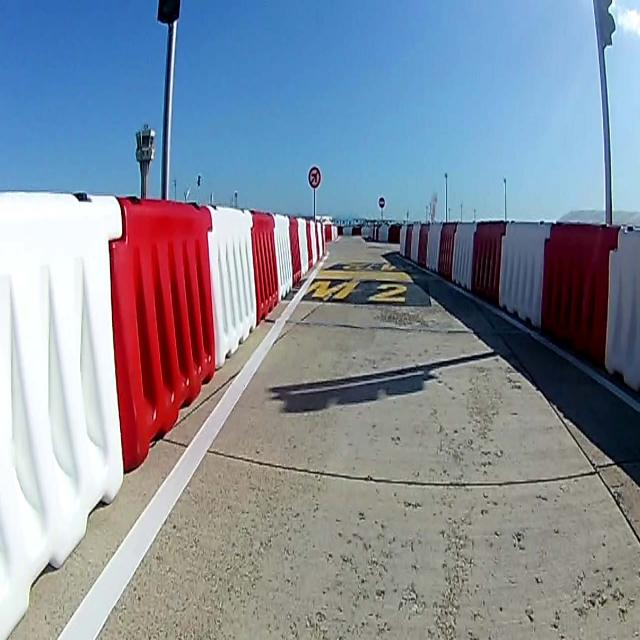girisyok: (378, 197, 385, 208)
soladonulmez: (308, 166, 320, 188)
